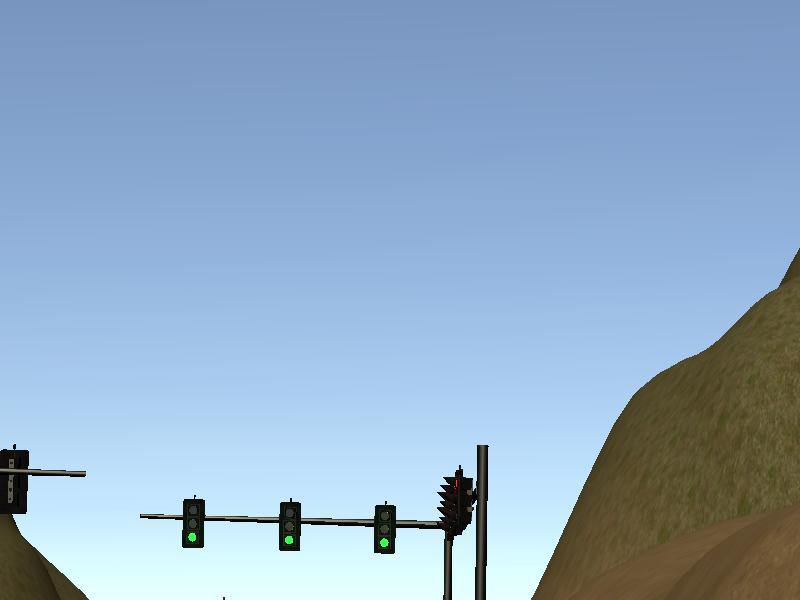green: (375, 504, 398, 555), (183, 500, 204, 548), (281, 503, 302, 550)
